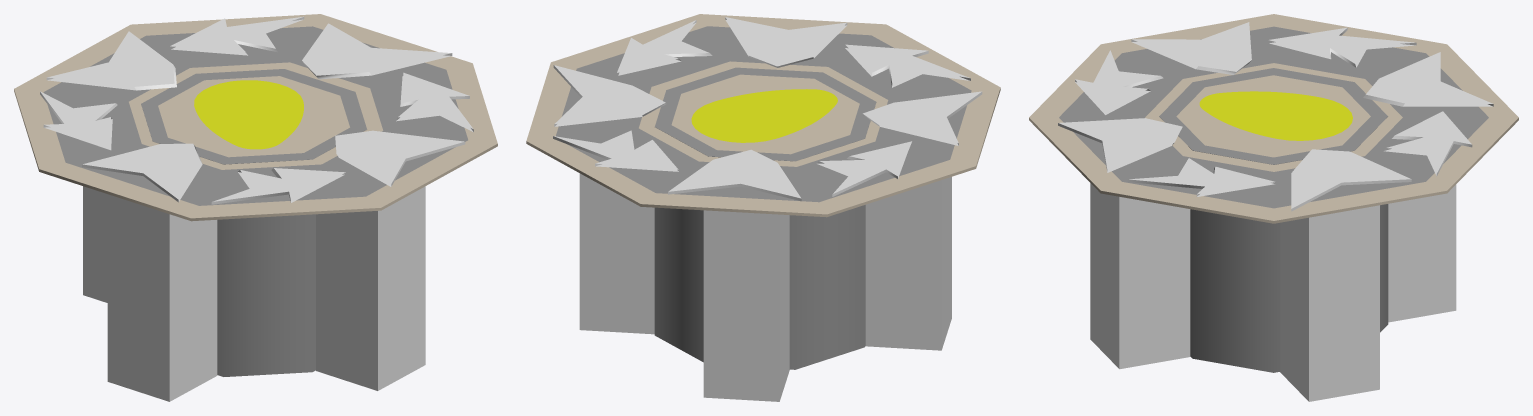
Rendered from Socle_Idole_Rotation.FBX.
3 renders of one model, left to right at view 1: azimuth 30°, elevation 25°; view 2: azimuth 150°, elevation 25°; view 3: azimuth 270°, elevation 25°, orthographic. The views are drawn at different scales.
Parts seen in each view (by area): view 1: Cylinder206, Cylinder207, Box991, Box993, Egg020, Object036, Object037, Object039, Object038, Box992, Object043, Object041 (+2 smaller); view 2: Cylinder206, Cylinder207, Box992, Box991, Box990, Egg020, Object036, Object039, Object037, Object038, Object041, Object043 (+2 smaller); view 3: Cylinder206, Cylinder207, Box990, Box993, Box992, Egg020, Object036, Object037, Object039, Object038, Object040, Object043 (+2 smaller).
Part boxes in pixels (<box>): Cylinder206: <box>14,14,497,221</box>; Cylinder207: <box>141,69,366,376</box>; Box991: <box>107,194,217,401</box>; Box993: <box>316,186,425,390</box>; Egg020: <box>194,80,303,149</box>; Object036: <box>302,23,452,79</box>; Object037: <box>335,130,465,186</box>; Object039: <box>46,31,176,90</box>; Object038: <box>82,143,202,202</box>; Box992: <box>83,186,107,302</box>; Object043: <box>170,16,304,55</box>; Object041: <box>211,168,345,204</box>; Cylinder206: <box>526,14,1000,217</box>; Cylinder207: <box>654,67,876,369</box>; Box992: <box>703,210,789,401</box>; Box991: <box>865,177,951,350</box>; Box990: <box>579,173,654,334</box>; Egg020: <box>691,89,837,142</box>; Object036: <box>553,65,666,126</box>; Object039: <box>668,149,801,201</box>; Object037: <box>725,17,847,67</box>; Object038: <box>862,91,982,145</box>; Object041: <box>845,44,970,87</box>; Object043: <box>553,130,678,171</box>; Cylinder206: <box>1029,14,1518,223</box>; Cylinder207: <box>1159,68,1388,372</box>; Box990: <box>1280,205,1379,401</box>; Box993: <box>1090,183,1190,369</box>; Box992: <box>1388,184,1456,322</box>; Egg020: <box>1199,91,1352,140</box>; Object036: <box>1291,149,1411,211</box>; Object037: <box>1058,118,1182,172</box>; Object039: <box>1363,52,1493,106</box>; Object038: <box>1131,22,1251,74</box>; Object040: <box>1269,27,1416,67</box>; Object043: <box>1383,111,1472,176</box>.
Bounding box in the file's own units: 126 × 60.99 × 126.
